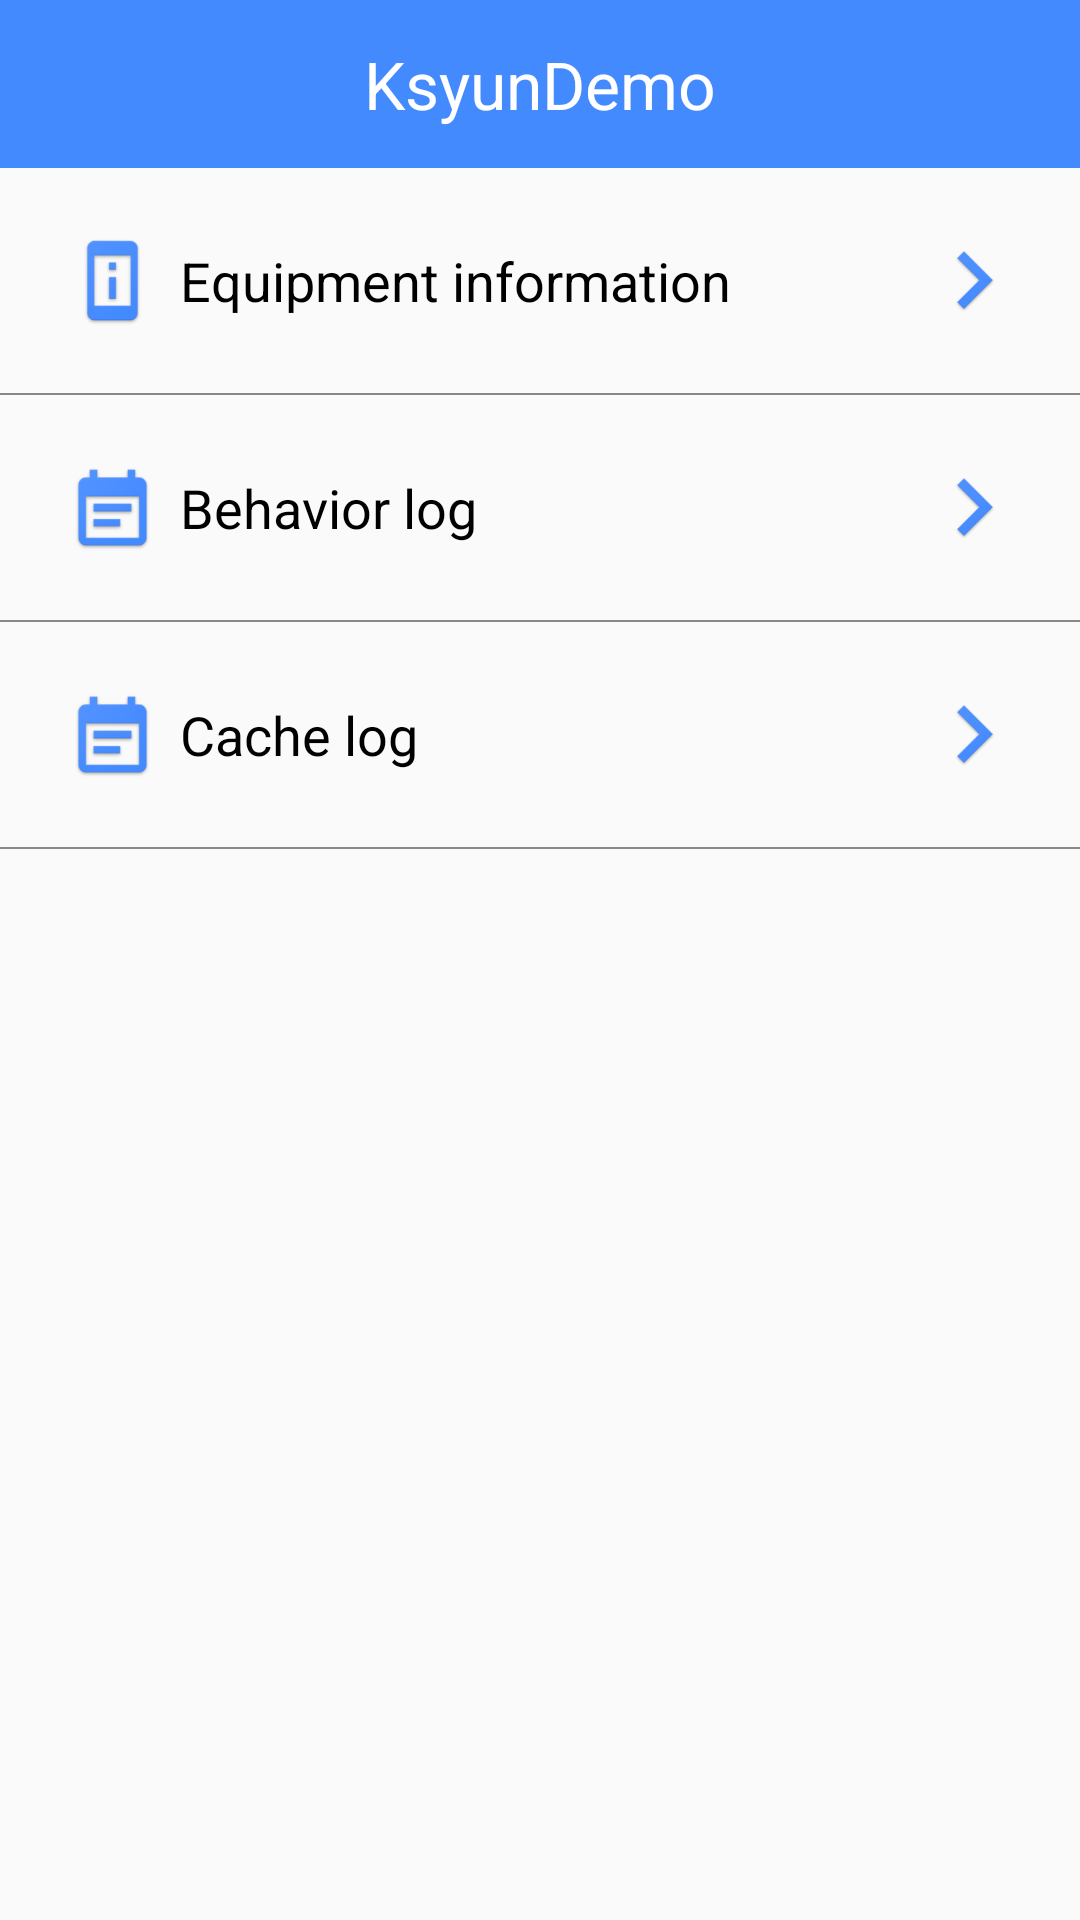

Icons on this 1080 × 1920 Android screen, each with its box as (x1, y1, x2, y2):
ksc device info: (86, 240, 139, 322)
ksc event log: (77, 469, 148, 548), (77, 696, 148, 775)
ksc jump: (957, 251, 993, 310), (957, 478, 993, 537), (957, 705, 993, 764)
